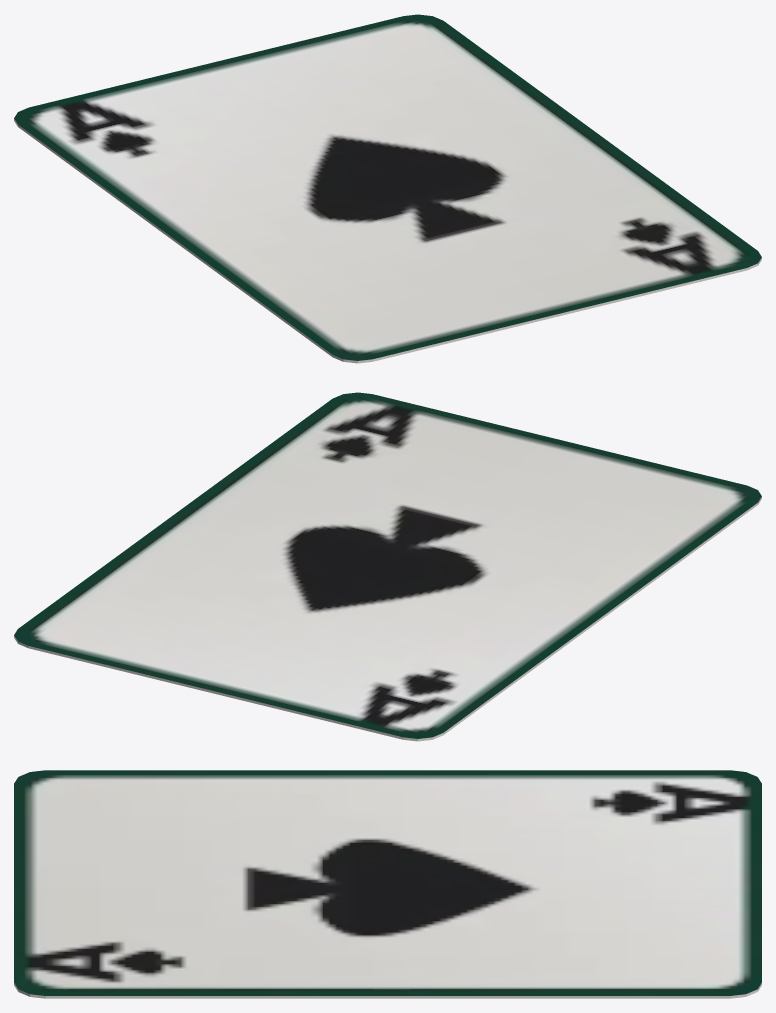
The model's file is cards.glb.
3 renders of one model, top to bottom at view 1: azimuth 30°, elevation 25°; view 2: azimuth 150°, elevation 25°; view 3: azimuth 270°, elevation 25°, orthographic. The views are drawn at different scales.
Parts seen in each view (by area): view 1: Card; view 2: Card; view 3: Card.
Part boxes in pixels (x1,y1,x2,y2): Card: (14,14,761,363); Card: (14,392,761,741); Card: (14,770,761,998).
Size of the model in its own units: 0.0635 by 0.000358 by 0.0889.
3 materials, 2 textured.
